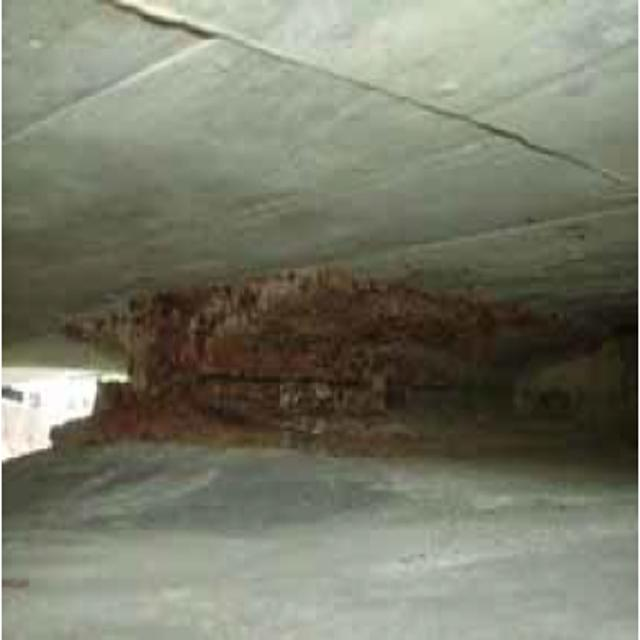corrosion: (64, 280, 606, 460)
